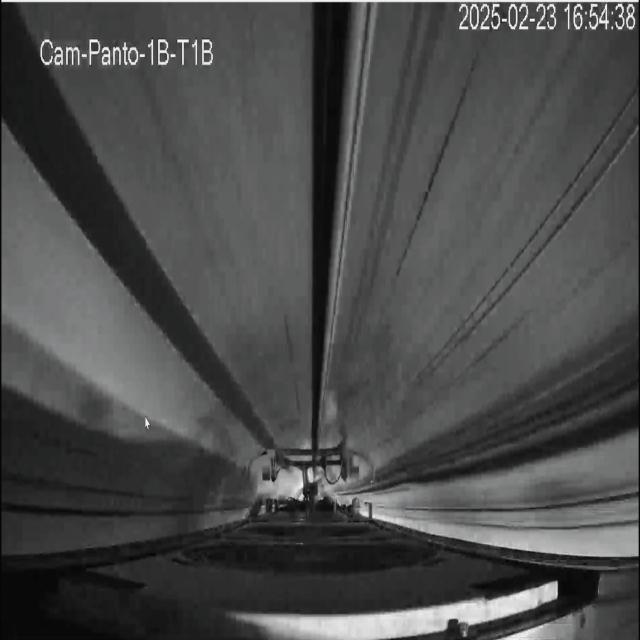Camera Stamp: (36, 29, 219, 70)
Date Stamp: (458, 3, 636, 33)
